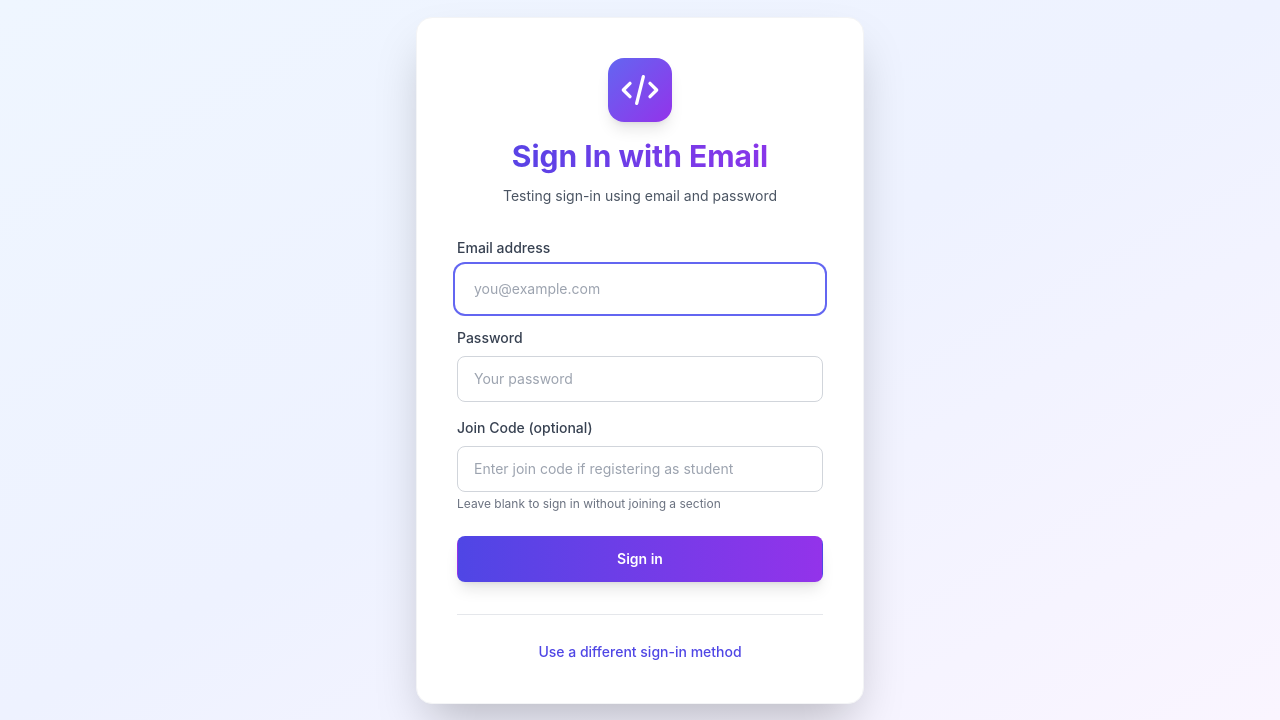
EmailSignInPage › Form Validation › shows error when submitting empty password
In the field labelled "Email address": (640, 288) [457,266,823,312], type "test@example.com"
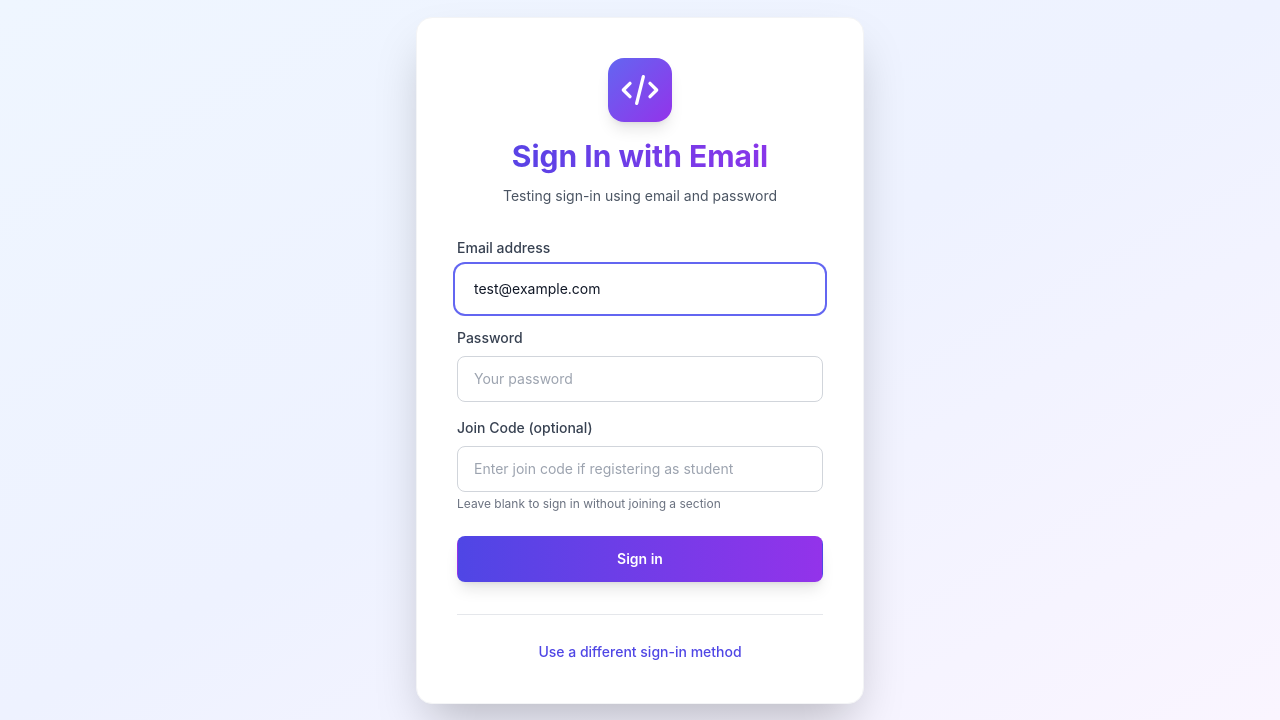
Click the button "Sign in": (640, 558) [457,536,823,582]
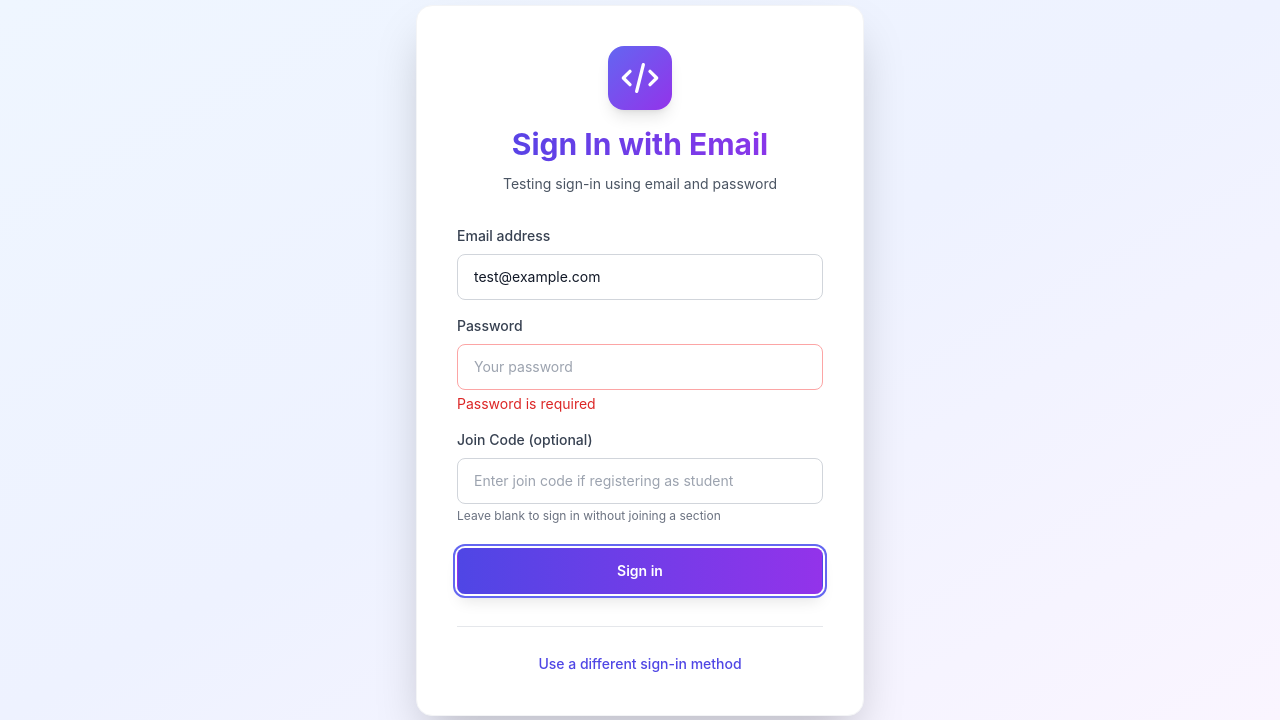
Expected: the text "Password is required" is shown, [457,394,596,412]
